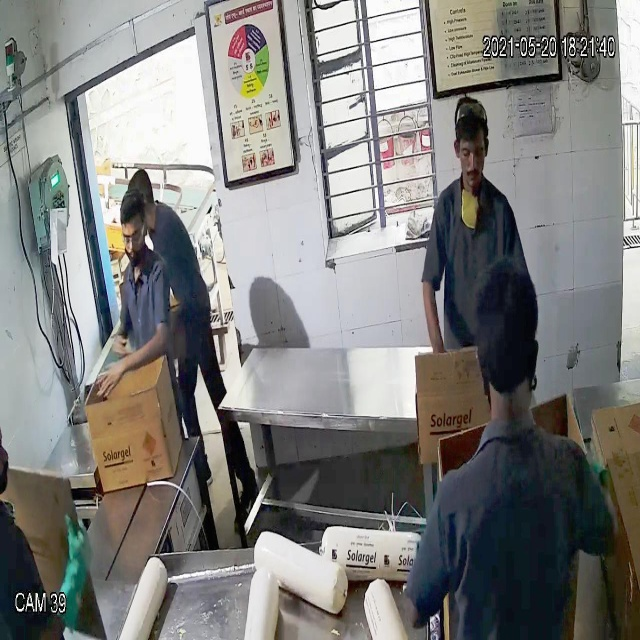Gafas: (120, 222, 145, 248)
Sin_gafas: (455, 140, 490, 165)
